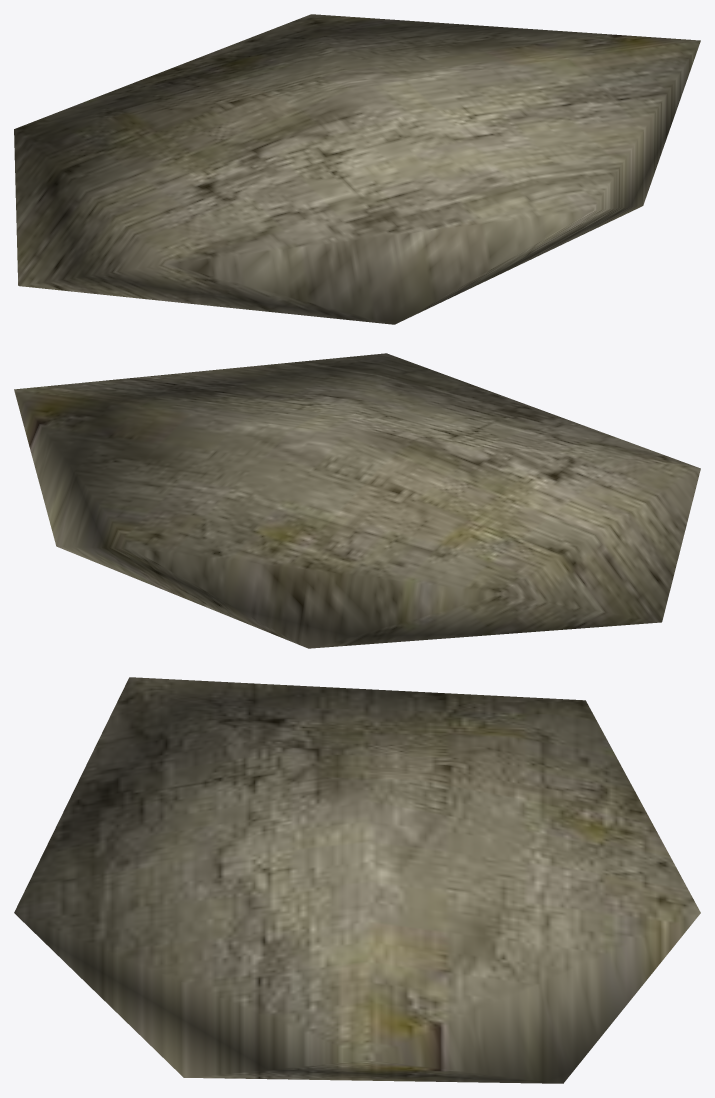
The model's file is road-stone.glb.
The picture shows the model from 3 angles, top to bottom: view 1: azimuth 30°, elevation 25°; view 2: azimuth 150°, elevation 25°; view 3: azimuth 270°, elevation 25°; orthographic projection. The views are drawn at different scales.
Parts seen in each view (by area): view 1: road-stone; view 2: road-stone; view 3: road-stone.
Part boxes in pixels (bbox=[...]): road-stone: bbox=[14, 14, 700, 324]; road-stone: bbox=[14, 353, 700, 648]; road-stone: bbox=[14, 677, 700, 1083].
Size of the model in its own units: 0.5512 by 0.0891 by 0.3842.
Materials: 1 (1 with a texture image).
